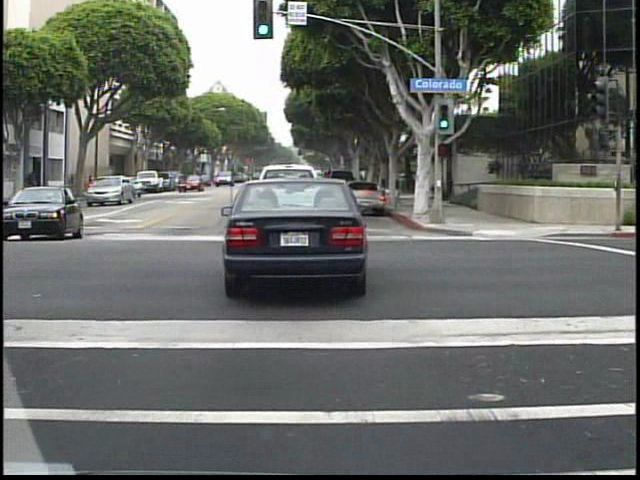person: (21, 169, 41, 208)
